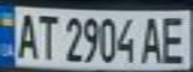0: (100, 13, 121, 64)
2: (60, 12, 84, 63)
4: (115, 13, 142, 64)
9: (78, 13, 100, 64)
A: (139, 13, 166, 64), (12, 9, 39, 60)
E: (157, 12, 190, 64)
T: (33, 10, 60, 61)
